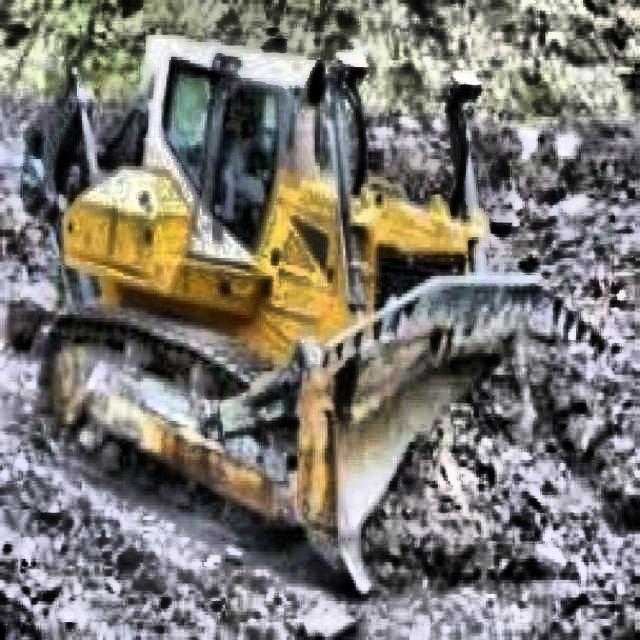bull_dozer/loader/grader: (19, 38, 614, 597)
person: (220, 88, 266, 208)
